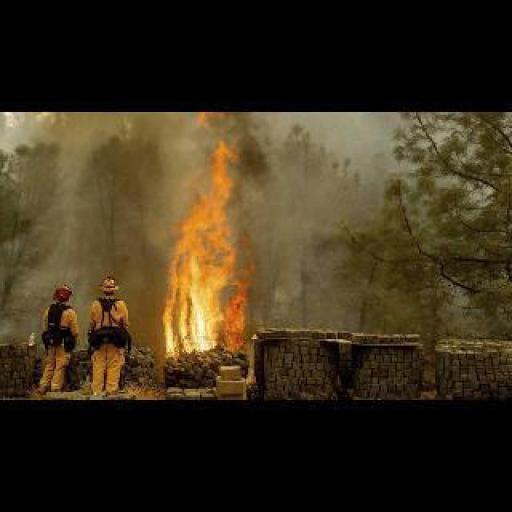smoke: (22, 112, 165, 275), (165, 120, 246, 354), (248, 187, 331, 328), (238, 131, 274, 186), (210, 112, 268, 133)
